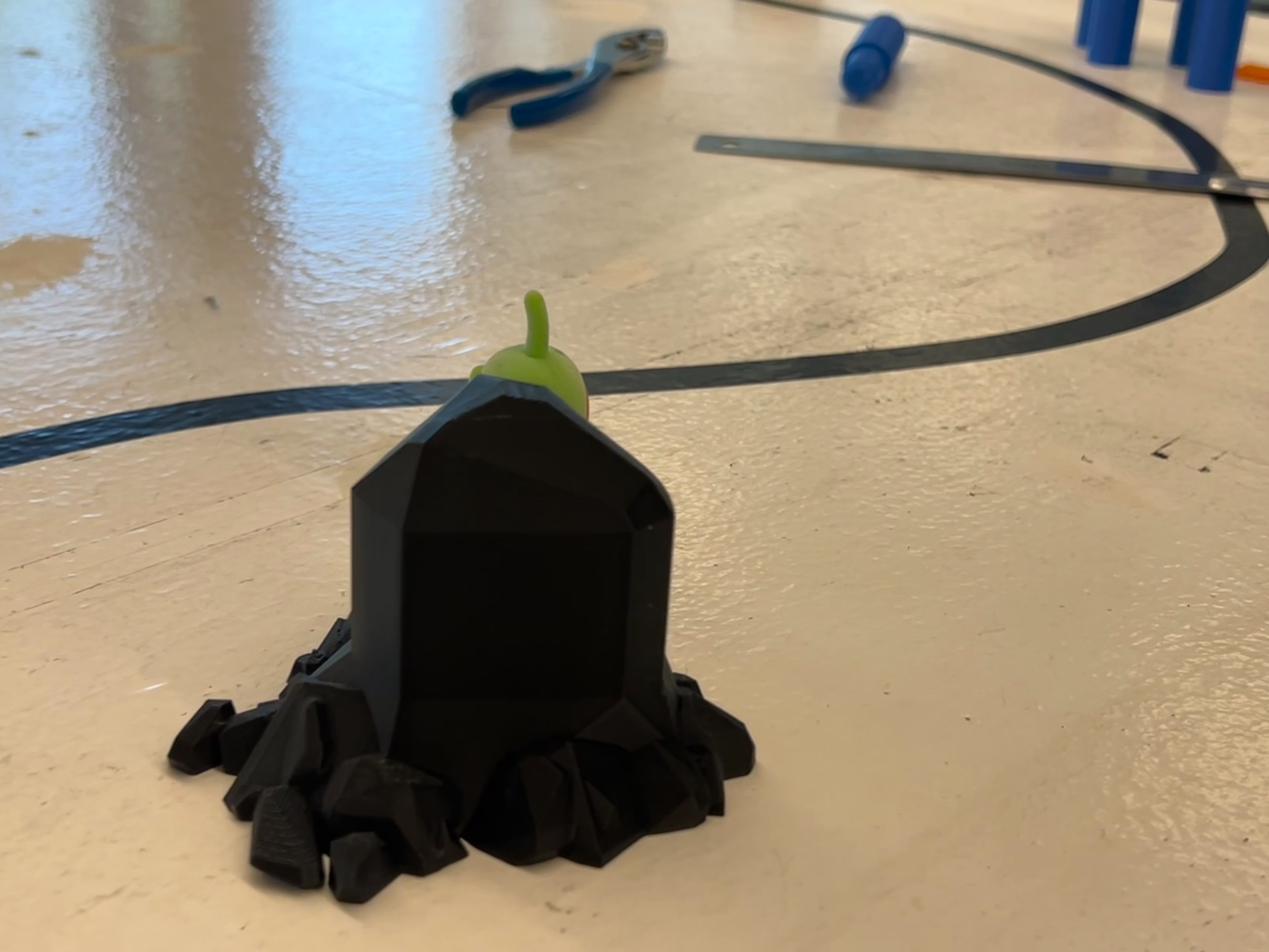teletubby: (471, 291, 588, 417)
